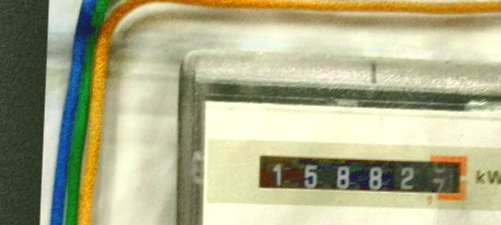1: (271, 159, 285, 189)
2: (398, 166, 416, 192)
5: (302, 163, 320, 193)
7: (431, 176, 445, 194)
8: (334, 164, 351, 193), (367, 164, 384, 193)
screen: (246, 139, 475, 210)
